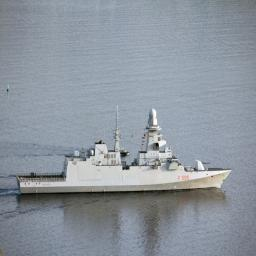Fragata: (15, 106, 234, 199)
